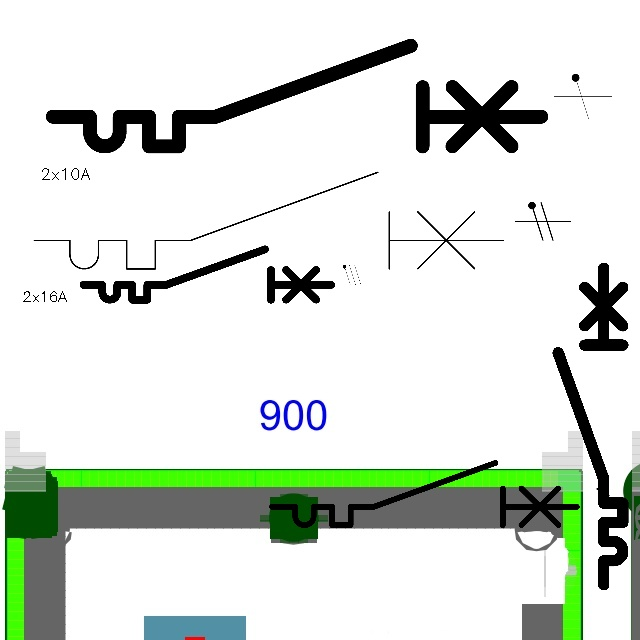interruptor_termomagnetico: (40, 33, 553, 159), (22, 160, 515, 281), (550, 260, 631, 593), (264, 455, 584, 533), (77, 243, 337, 306)
